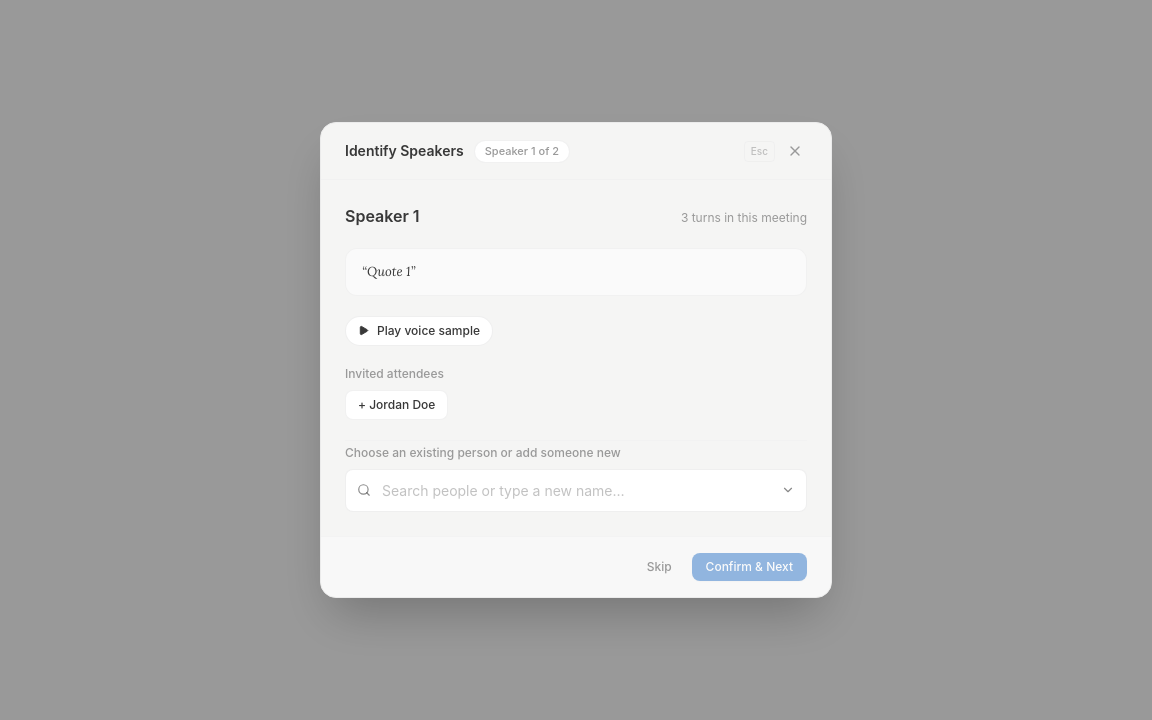
Scenario: SpeakerIdentificationModal › supports Skip, Back, and Done in completion summary
This screenshot has width=1152, height=720.
Later steps or results of the test are not shown.
Click the button "Skip": coordinates (659, 567) [635,553,684,581]
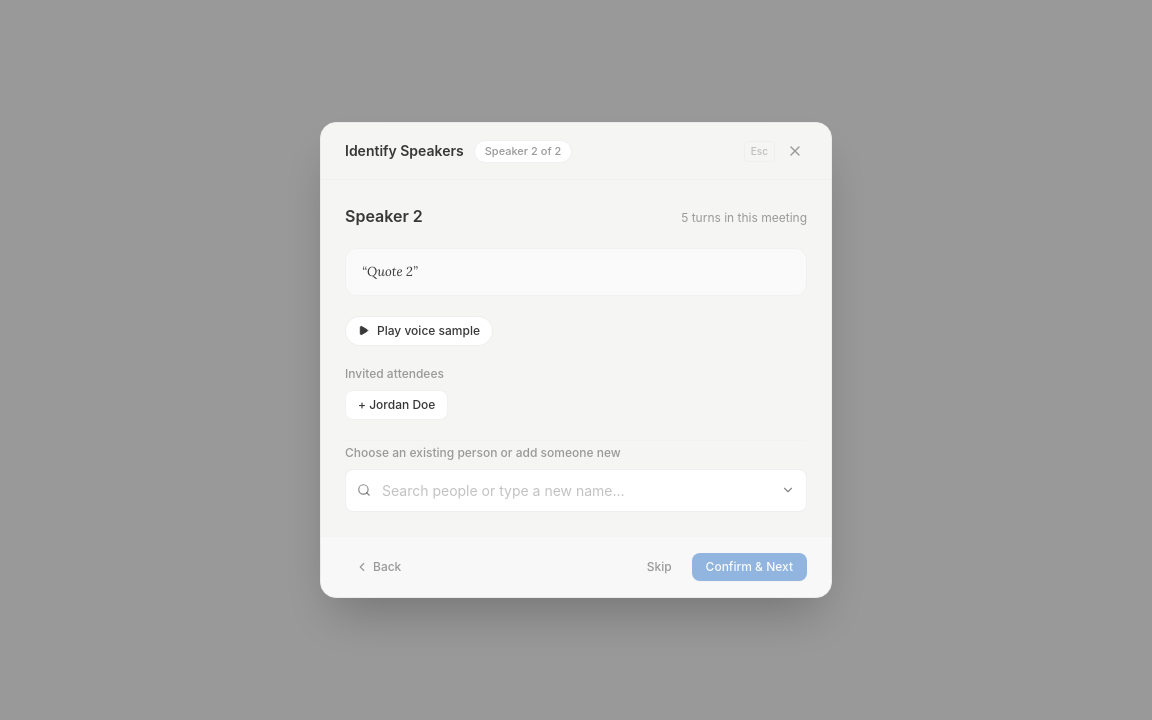
Check: the text "Speaker 2 of 2" is shown, box [474,140,572,163]
Check: the button "Back" is shown
Click the button "Back": coordinates (378, 567) [345,553,411,581]
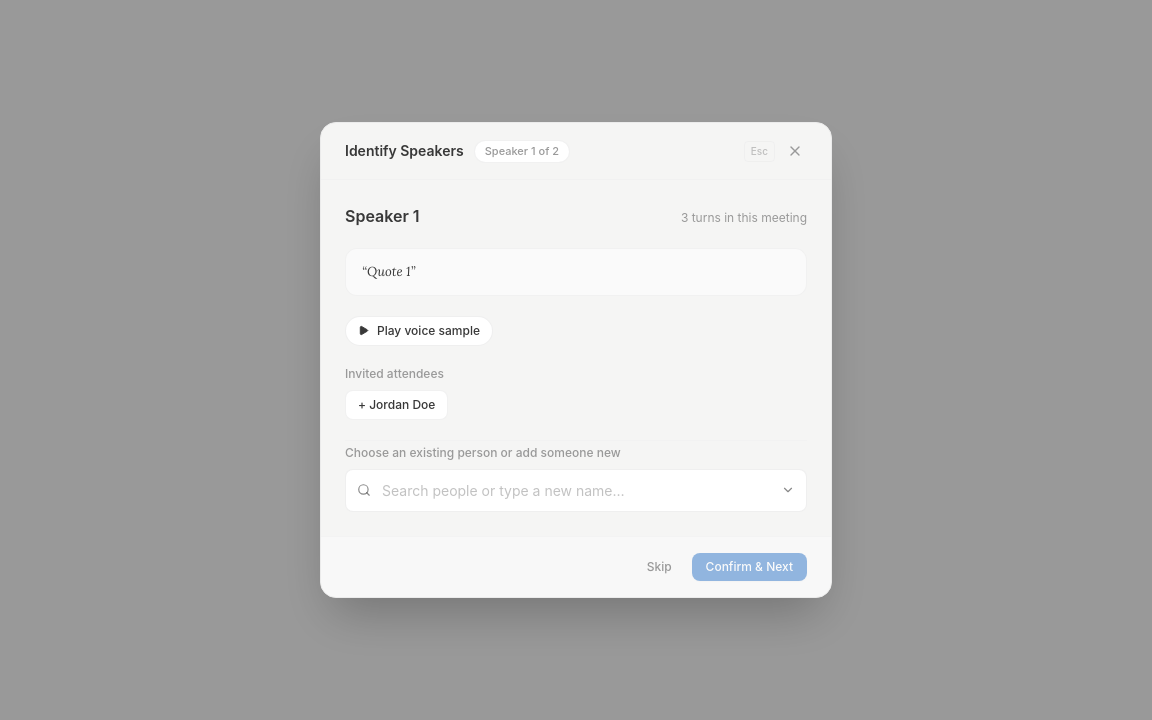
Check: the text "Speaker 1 of 2" is shown, box [474,140,570,163]
Click the button "Skip": coordinates (659, 567) [635,553,684,581]
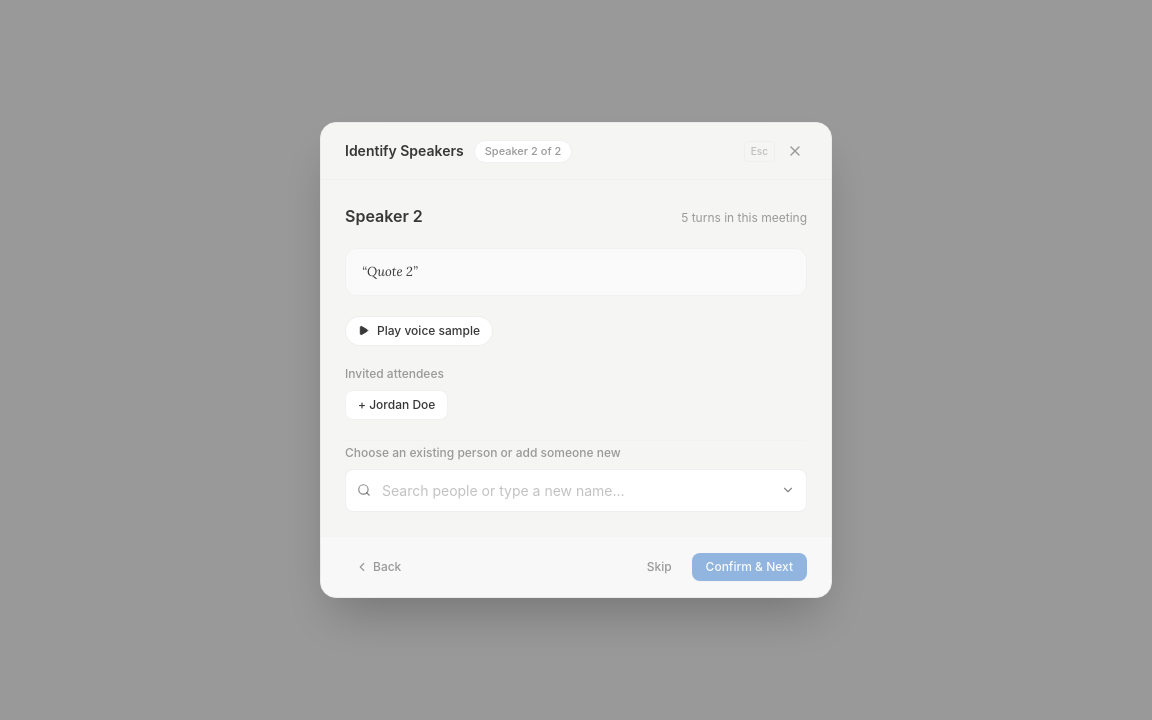
Check: the text "Speaker 2 of 2" is shown, box [474,140,572,163]
Click the button "Skip": coordinates (659, 567) [635,553,684,581]
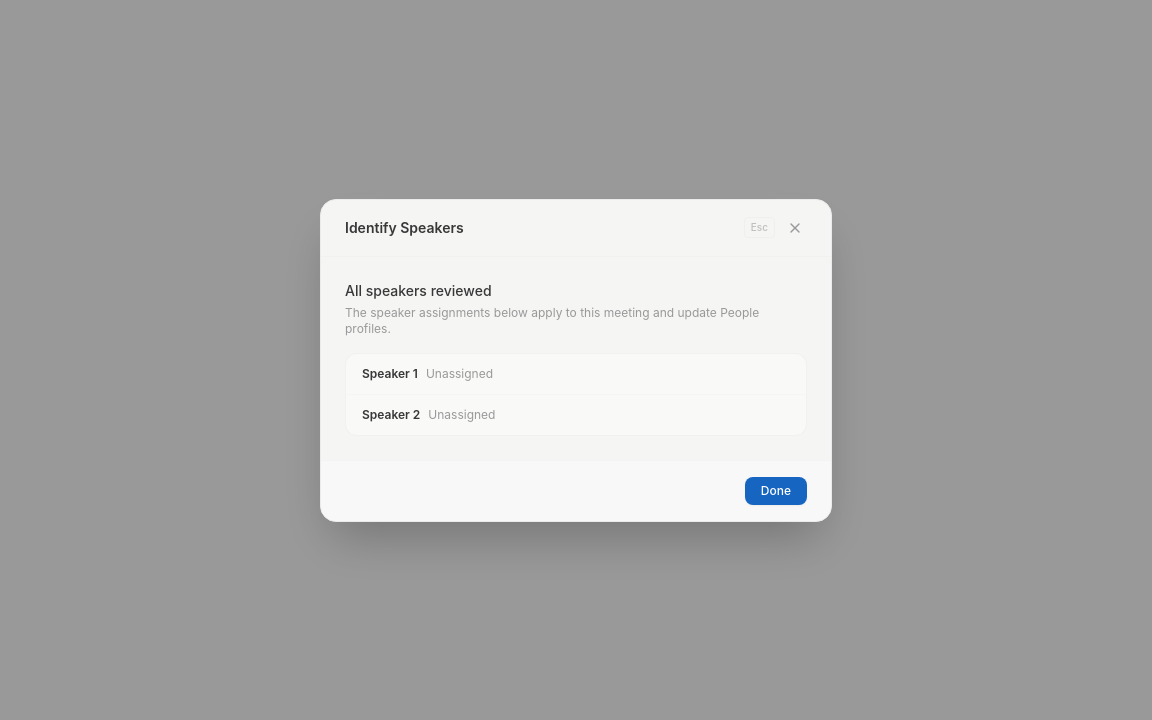
Check: the button "Done" is shown, box [745,476,807,504]
Check: the text "All speakers reviewed" is shown, box [345,282,492,298]
